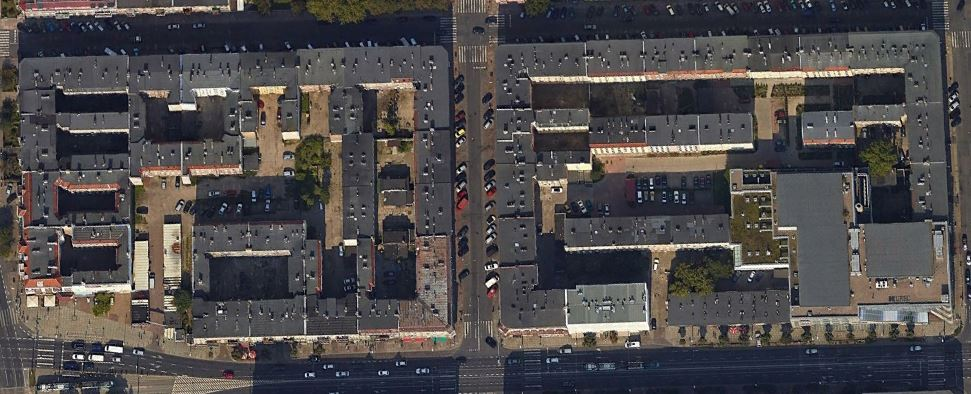block of flats: (492, 19, 962, 340), (12, 40, 458, 344)
